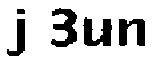3: (47, 5, 78, 52)
j: (5, 7, 31, 60)
n: (116, 13, 149, 54)
u: (81, 14, 113, 51)
